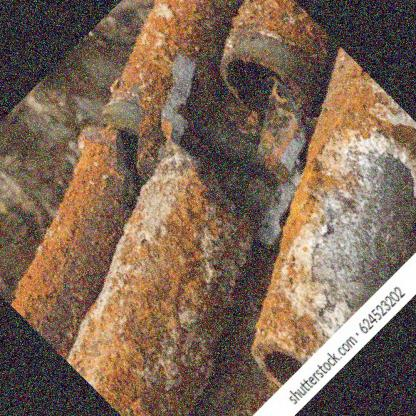burst: (156, 63, 308, 224)
